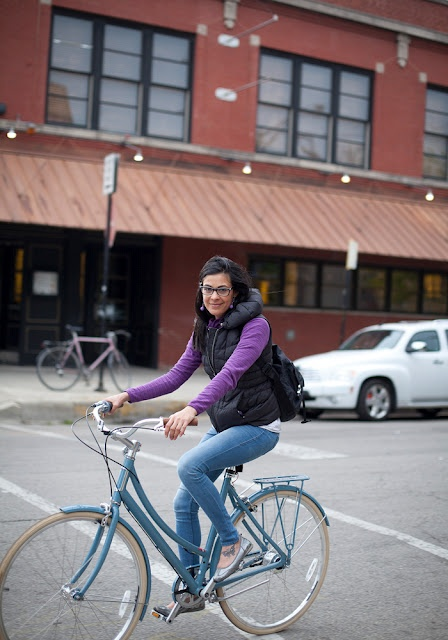bike: (1, 394, 336, 640), (34, 323, 138, 394)
person: (106, 252, 306, 615)
